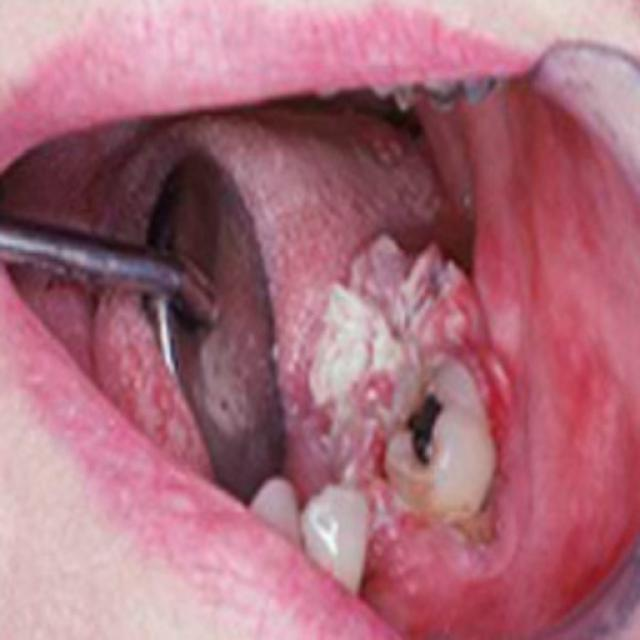cancer-detection: (278, 207, 542, 595)
processing_area: (4, 79, 639, 639)
